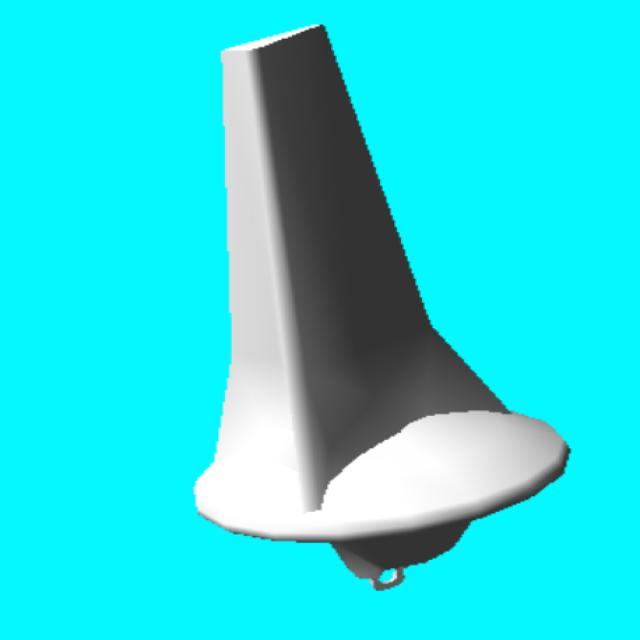WhiteBuoy: (196, 26, 569, 588)
